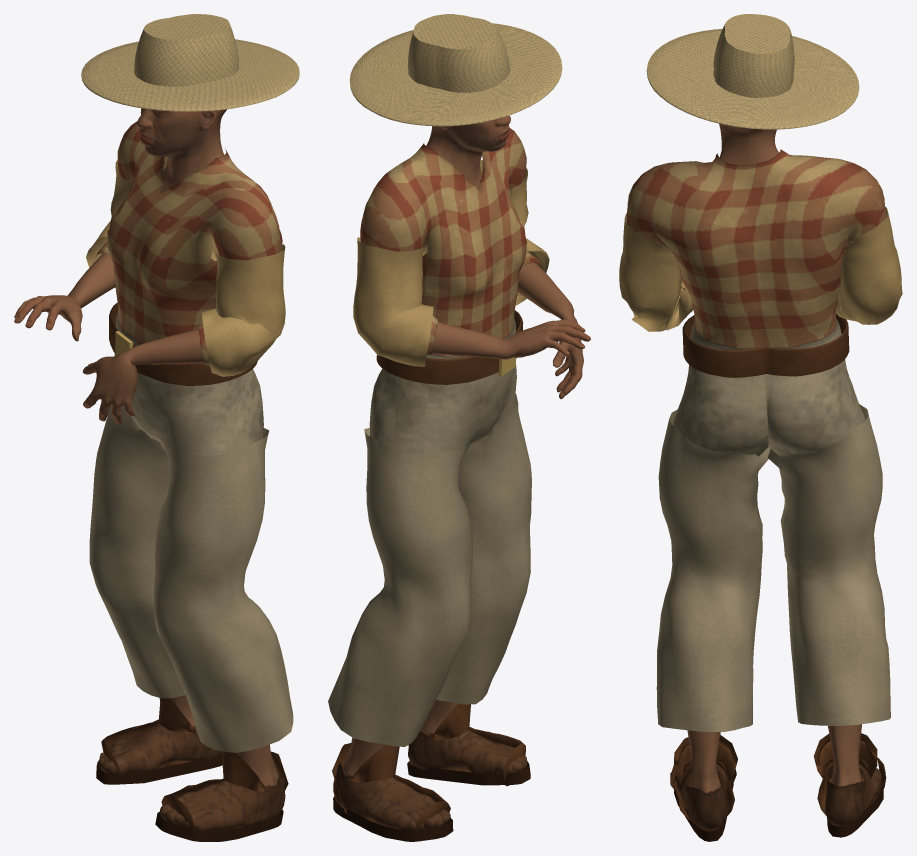
File: SM_Art_Person_koa.gltf
3 views of the same model, side by side, from view 1: azimuth 30°, elevation 25°; view 2: azimuth 150°, elevation 25°; view 3: azimuth 270°, elevation 25° (orthographic). The views are drawn at different scales.
Visible parts, largest first — view 1: SM_Art_Person_koa; view 2: SM_Art_Person_koa; view 3: SM_Art_Person_koa.
Part boxes in pixels (x1=…): SM_Art_Person_koa: x1=14, y1=14, x2=299, y2=841; SM_Art_Person_koa: x1=328, y1=14, x2=590, y2=841; SM_Art_Person_koa: x1=619, y1=14, x2=902, y2=841.
Size of the model in its own units: 0.5913 by 1.81 by 0.5979.
15 materials, 14 textured.
